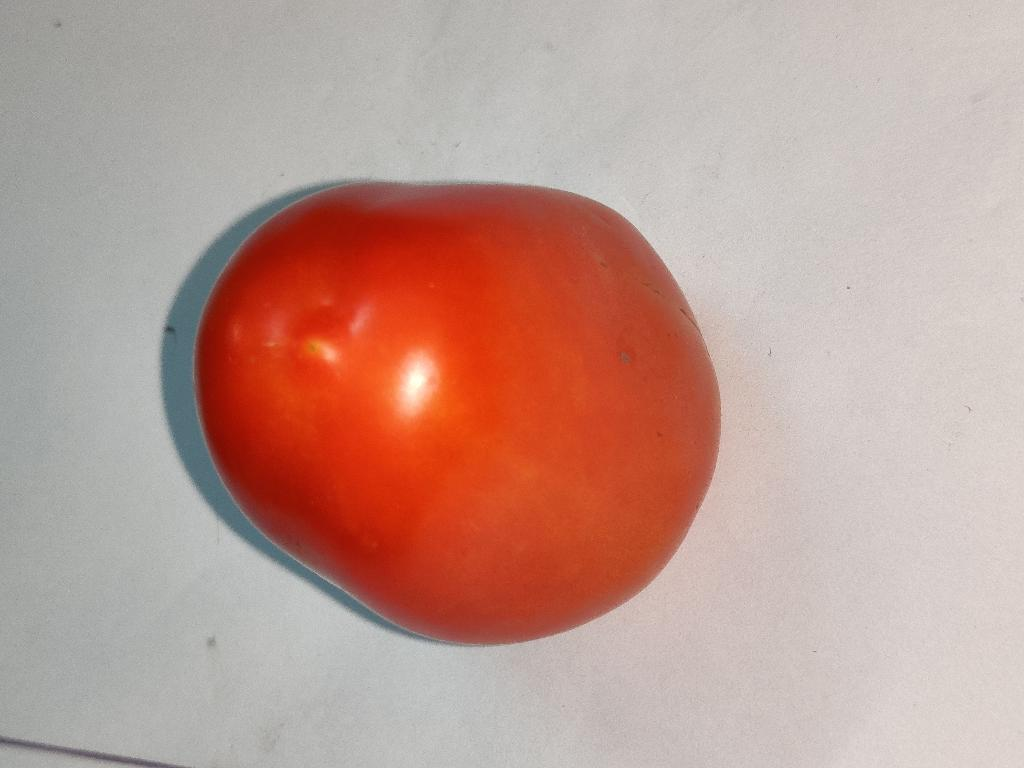tomato: (195, 183, 720, 643)
